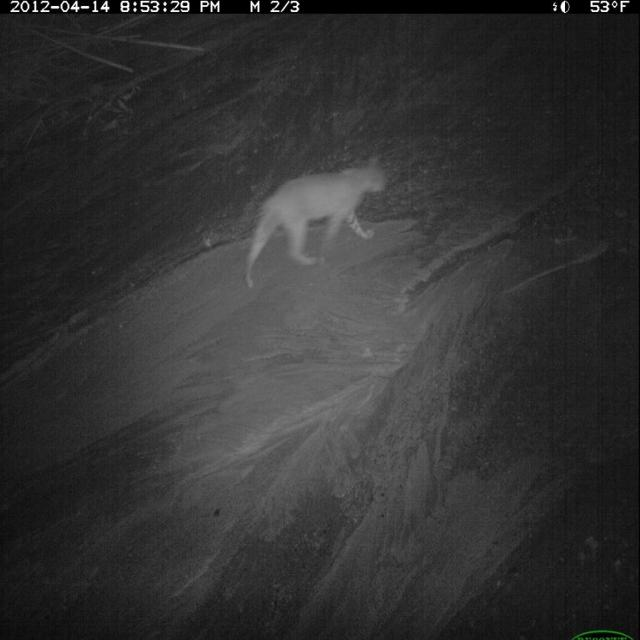bobcat: (240, 149, 392, 293)
